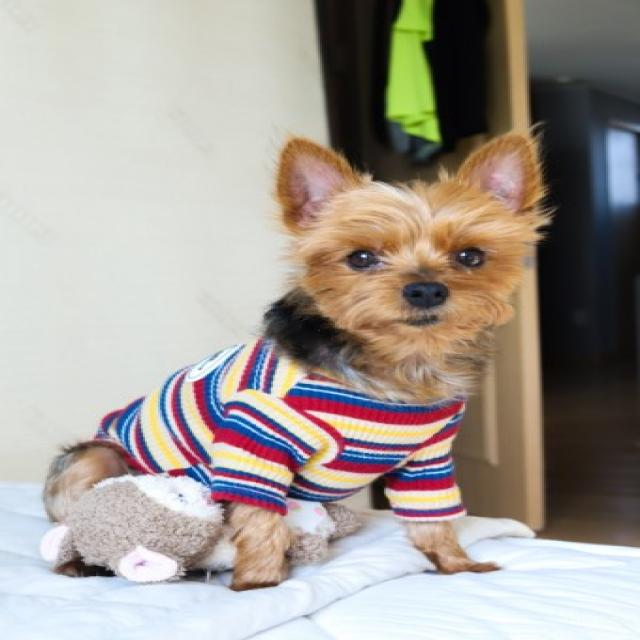cloth: (96, 337, 465, 521)
